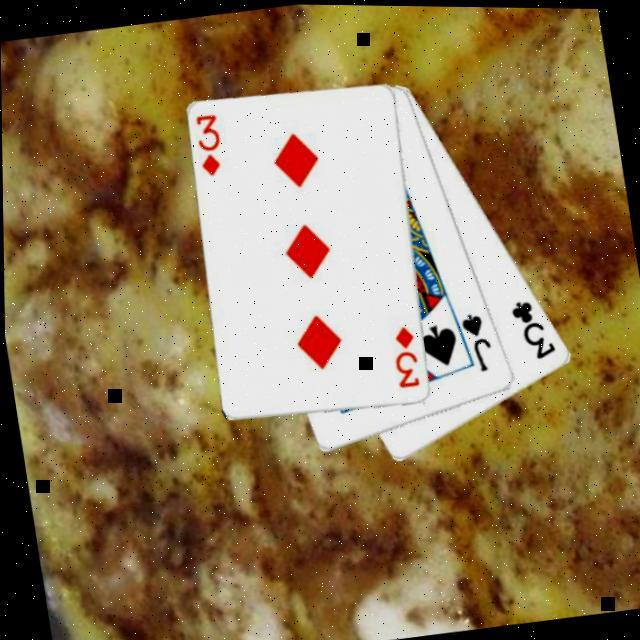3C: (504, 294, 558, 366)
3D: (384, 322, 422, 393), (189, 113, 227, 182)
JS: (454, 309, 496, 377)
